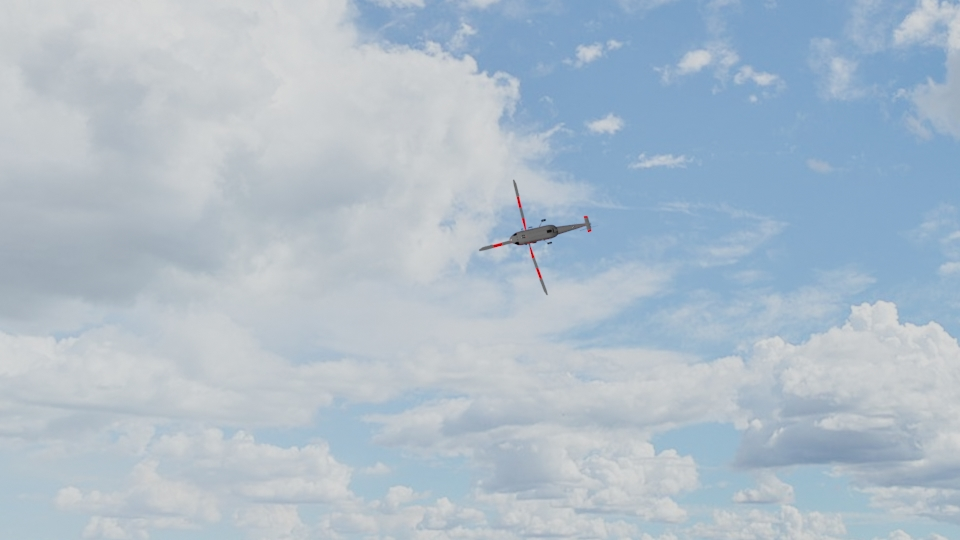heli: (479, 177, 592, 295)
